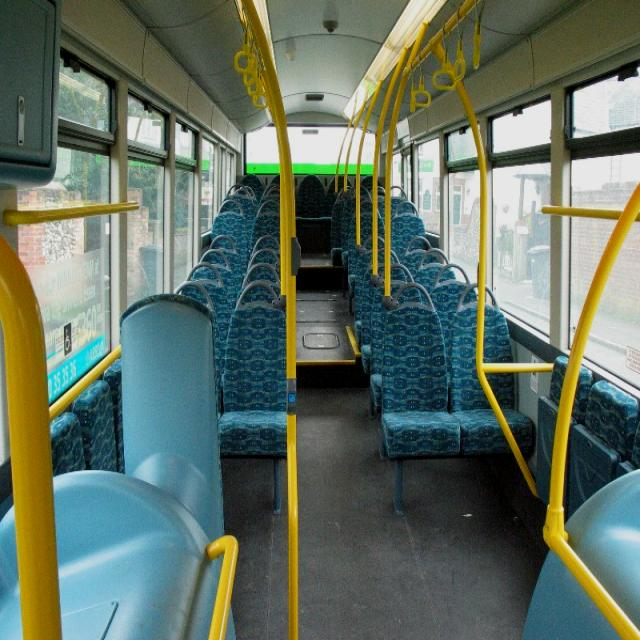asiento-libre: (434, 302, 536, 458), (446, 282, 536, 457), (382, 282, 464, 458), (216, 280, 295, 460), (381, 304, 462, 459), (218, 304, 287, 458), (369, 264, 436, 417), (361, 237, 419, 374), (73, 360, 124, 473), (583, 389, 640, 481), (418, 266, 486, 337), (354, 215, 406, 297), (232, 266, 288, 331), (175, 266, 247, 315), (544, 356, 594, 424), (344, 194, 398, 256), (192, 235, 254, 285), (407, 240, 466, 288), (334, 185, 386, 234), (203, 215, 258, 254), (50, 413, 83, 478), (399, 216, 449, 255), (214, 194, 260, 231), (249, 237, 287, 279), (393, 197, 435, 230), (296, 175, 321, 220), (223, 184, 264, 210), (256, 215, 288, 247), (388, 185, 426, 211), (262, 197, 288, 226), (267, 185, 283, 204)
